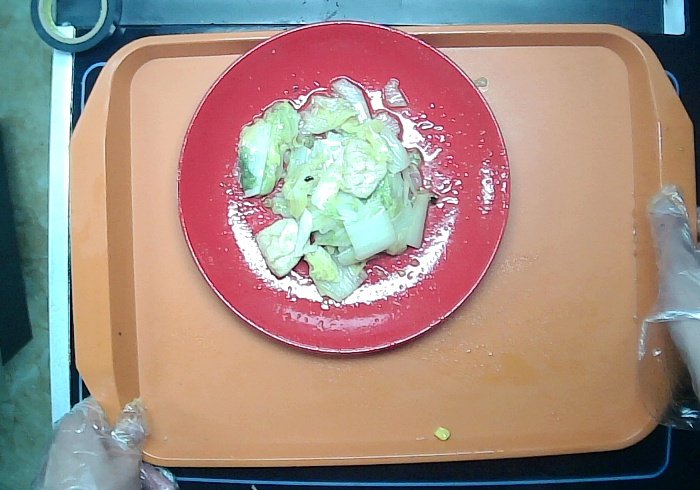HZYJPL-Hong_Se_Yuan_Pan: (176, 20, 517, 356)
